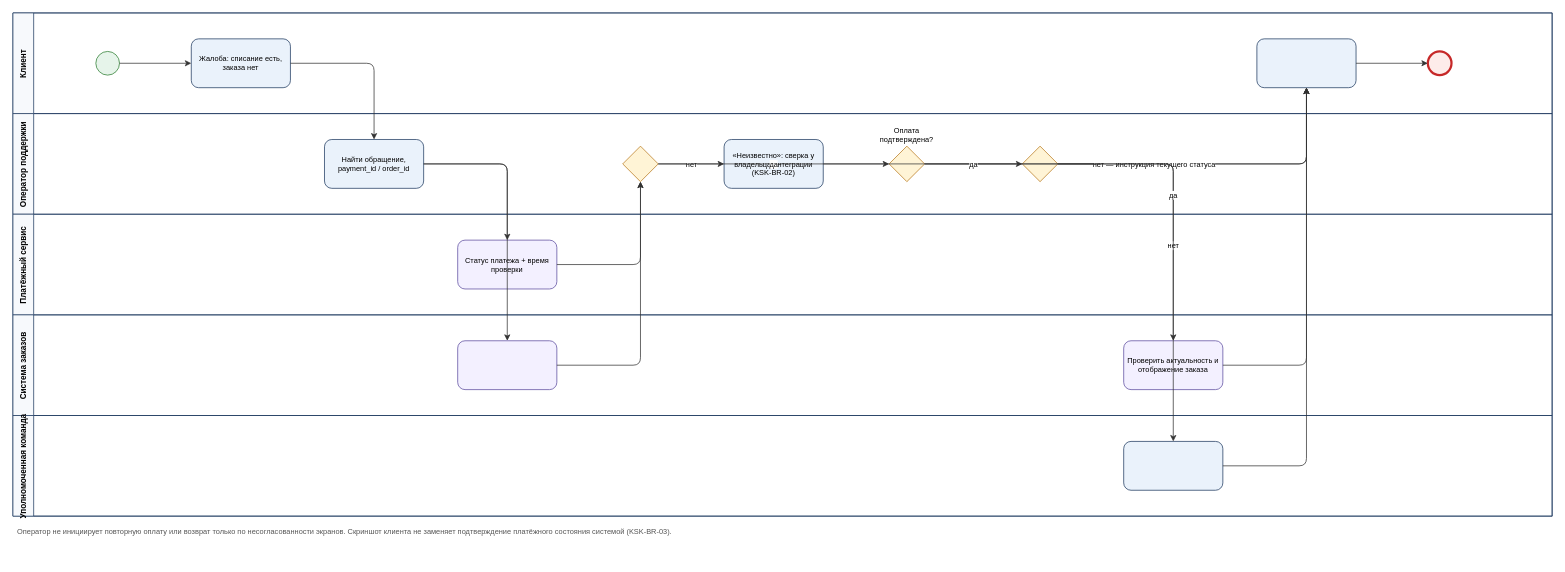
The diagram is 1565 pixels wide and 572 high, and some of its shapes have lost their labels. The centre of each missing label's shape, as x and y in pixels:
Заказ найден?: (x=1040, y=163)
Получить подтверждённый статус и следующий шаг: (x=1306, y=63)
Проверить связь платёж–заказ; возврат только по инструкции (KSK-BR-04, 05): (x=1173, y=465)
Статус заказа + время проверки: (x=507, y=365)
Статус оплаты известен?: (x=640, y=163)
